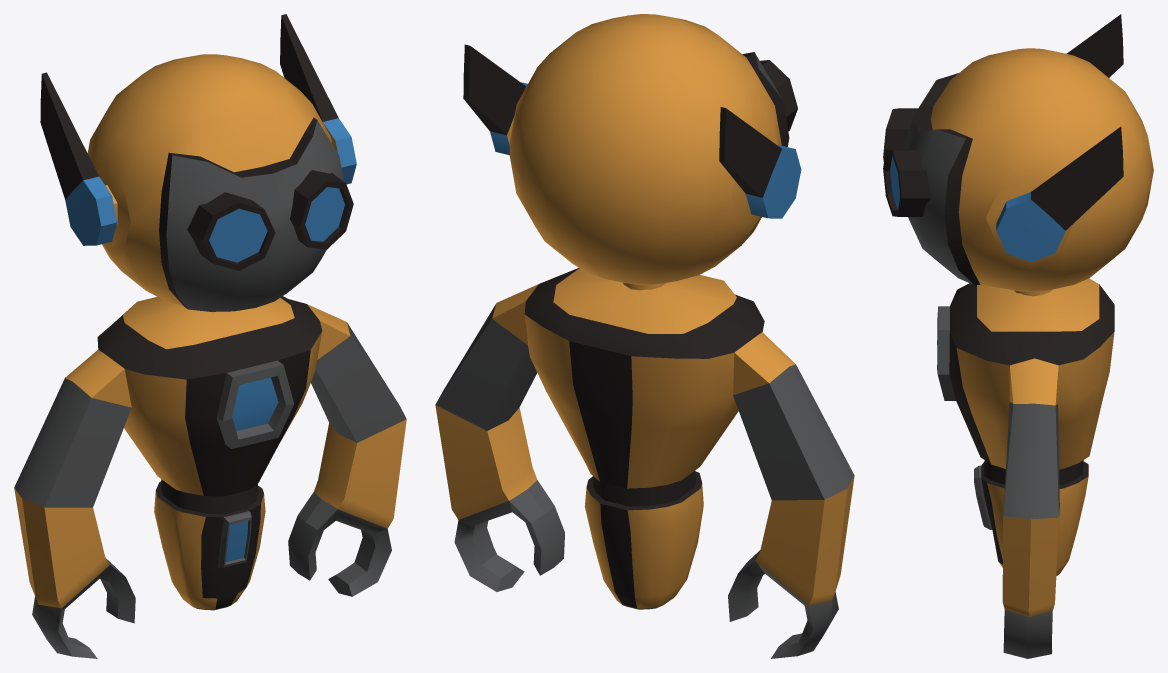
Rendered from Main Character.fbx.
3 views of the same model, side by side, from view 1: azimuth 30°, elevation 25°; view 2: azimuth 150°, elevation 25°; view 3: azimuth 270°, elevation 25° (orthographic). The views are drawn at different scales.
Parts seen in each view (by area): view 1: polySurface4, pSphere1, pCylinder6, pCylinder2, pCylinder3, pCylinder7; view 2: polySurface4, pSphere1, pCylinder6, pCylinder7, pCylinder2; view 3: polySurface4, pSphere1, pCylinder7, pCylinder3, pCylinder6, pCylinder2.
Part boxes in pixels (x1,y1,x2,y2): polySurface4: [14, 296, 406, 658]; pSphere1: [87, 54, 343, 311]; pCylinder6: [40, 72, 117, 245]; pCylinder2: [187, 192, 275, 270]; pCylinder3: [290, 170, 353, 249]; pCylinder7: [280, 14, 356, 184]; polySurface4: [435, 268, 854, 658]; pSphere1: [509, 14, 789, 284]; pCylinder6: [719, 107, 801, 218]; pCylinder7: [463, 44, 527, 155]; pCylinder2: [760, 60, 797, 131]; polySurface4: [937, 278, 1114, 658]; pSphere1: [904, 48, 1153, 292]; pCylinder7: [996, 126, 1123, 262]; pCylinder3: [883, 149, 930, 216]; pCylinder6: [1066, 14, 1123, 77]; pCylinder2: [883, 108, 918, 161].
Size of the model in its own units: 4.09 by 5.77 by 2.64.
